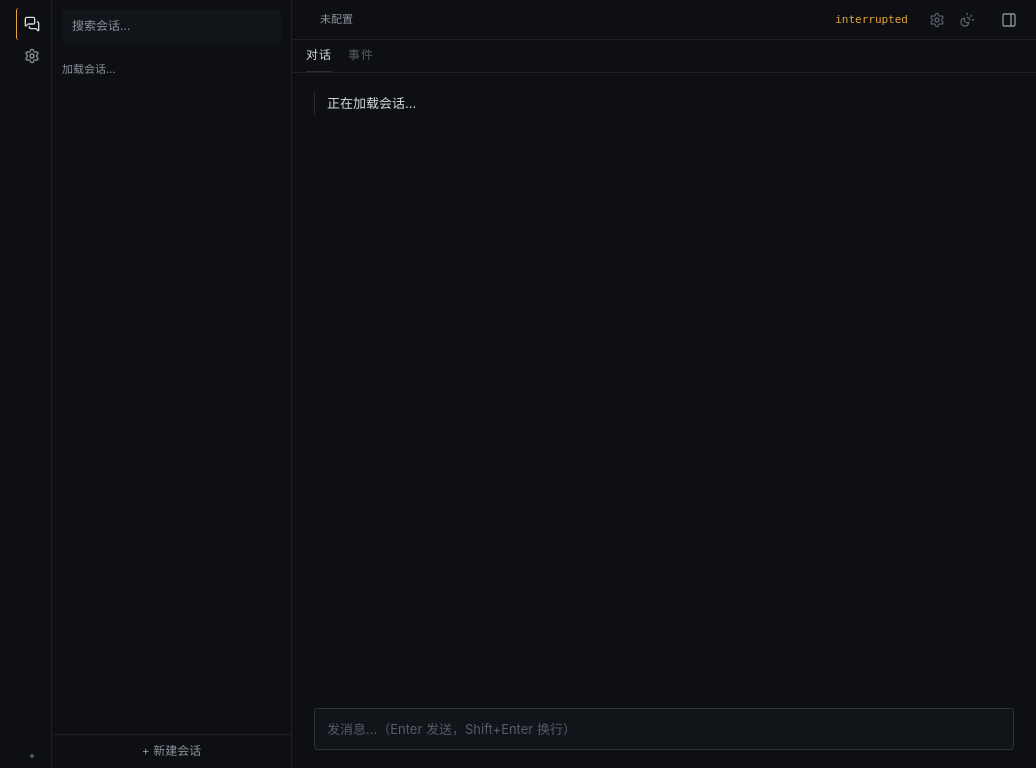
Test: AppFrame details lifecycle (02 §4) › opens the details pane via the SessionBar toggle
Click the button titled "详情面板（Esc 关闭）": (1008, 20) [994,6,1022,34]
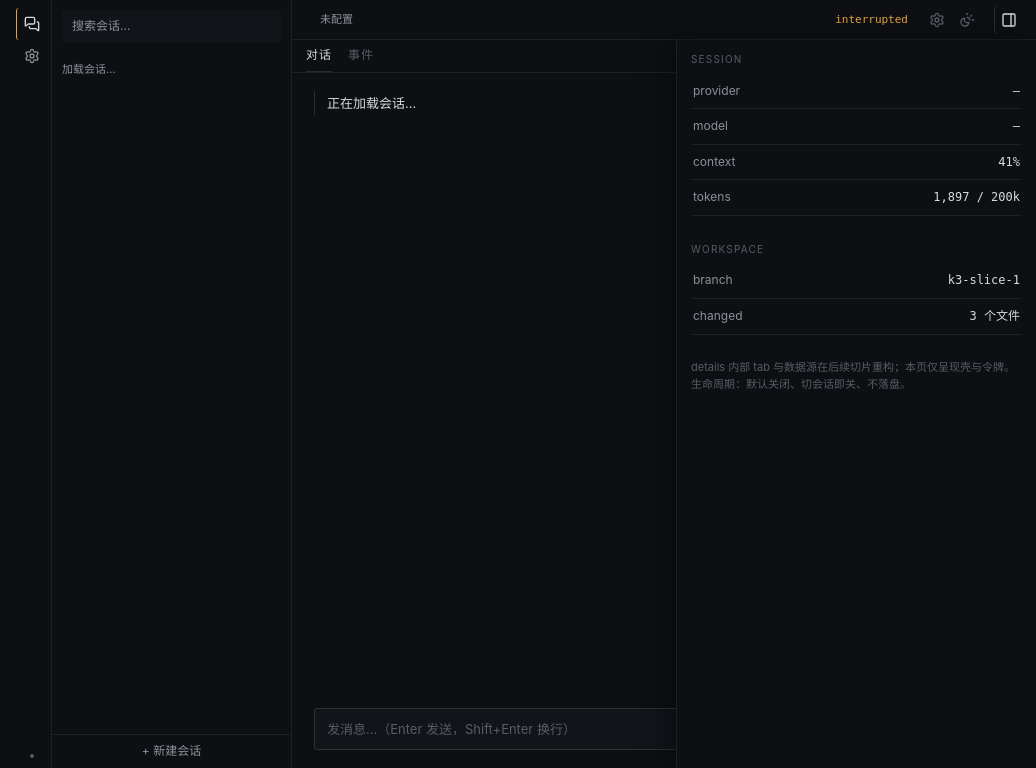
Result: the button titled "详情面板（Esc 关闭）" is expanded at [994,6,1022,34]
